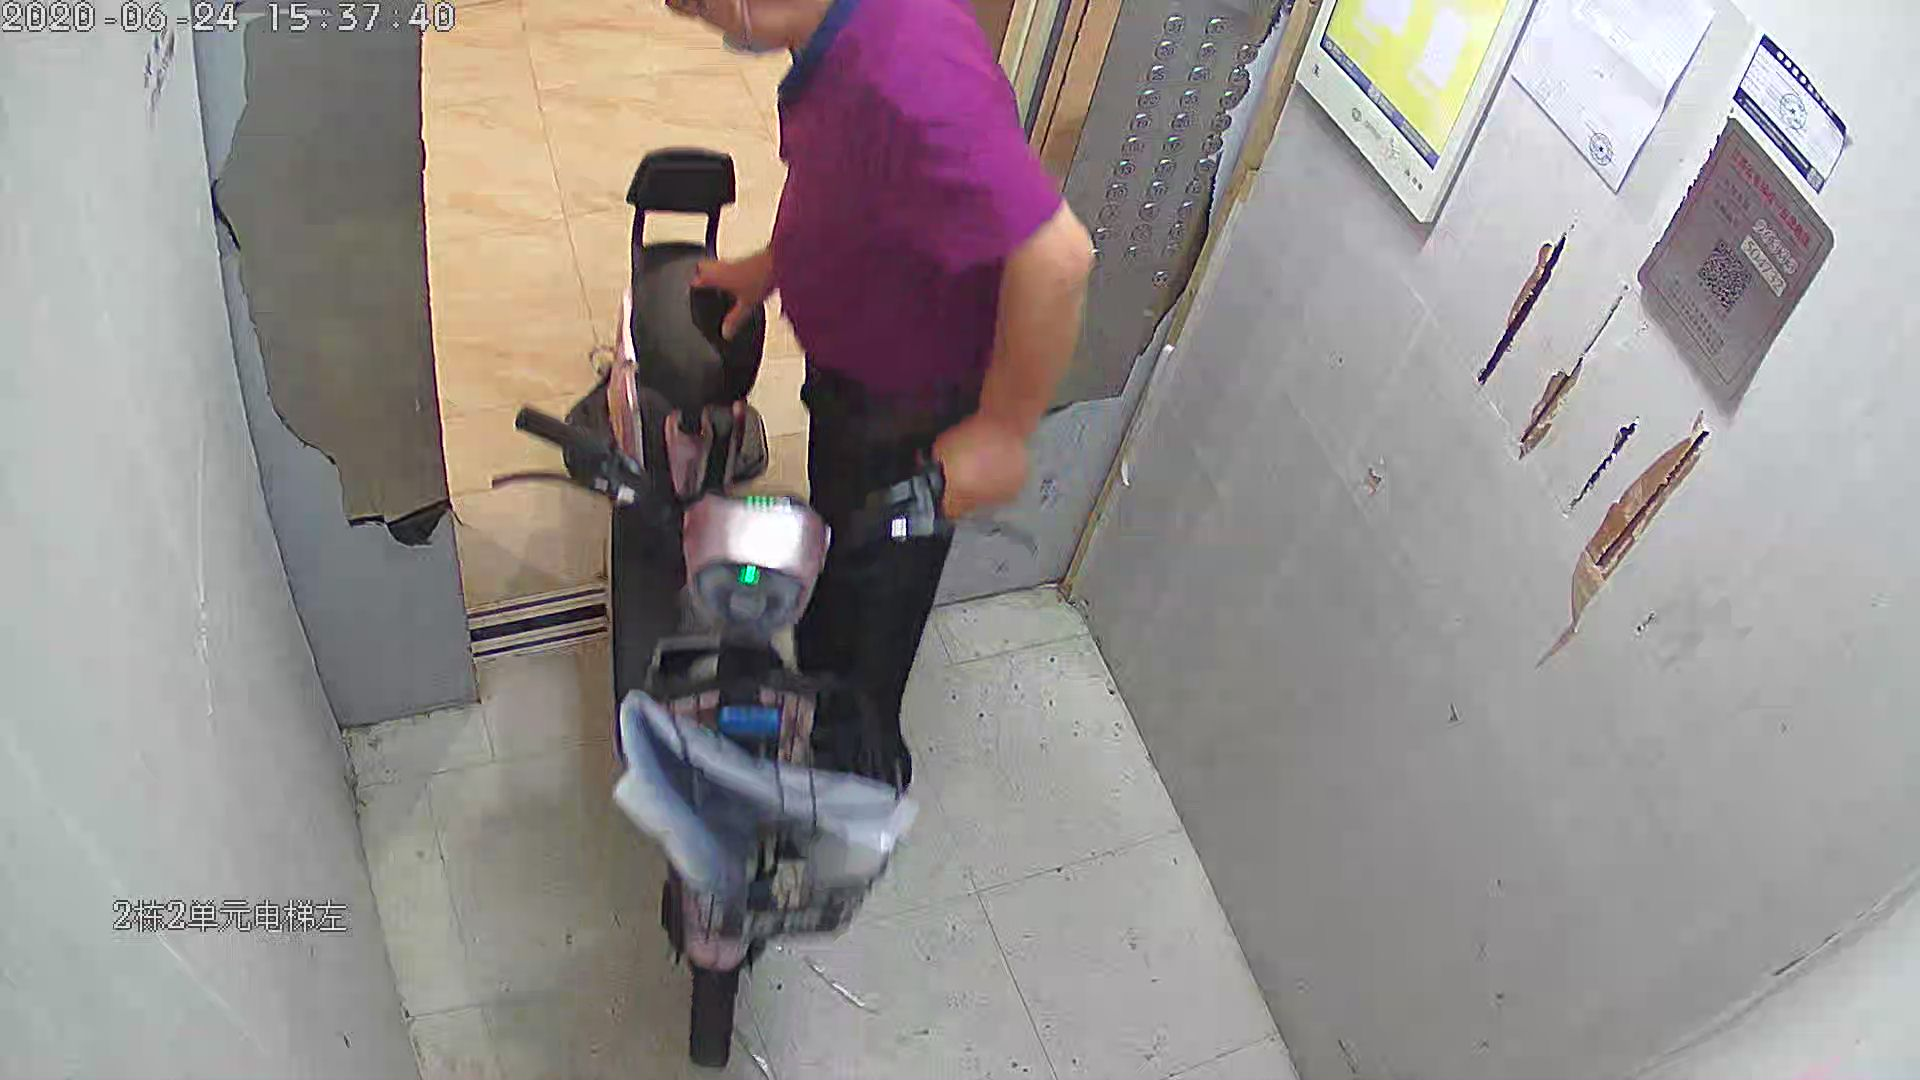Electric-bicycle: (524, 150, 938, 1002)
